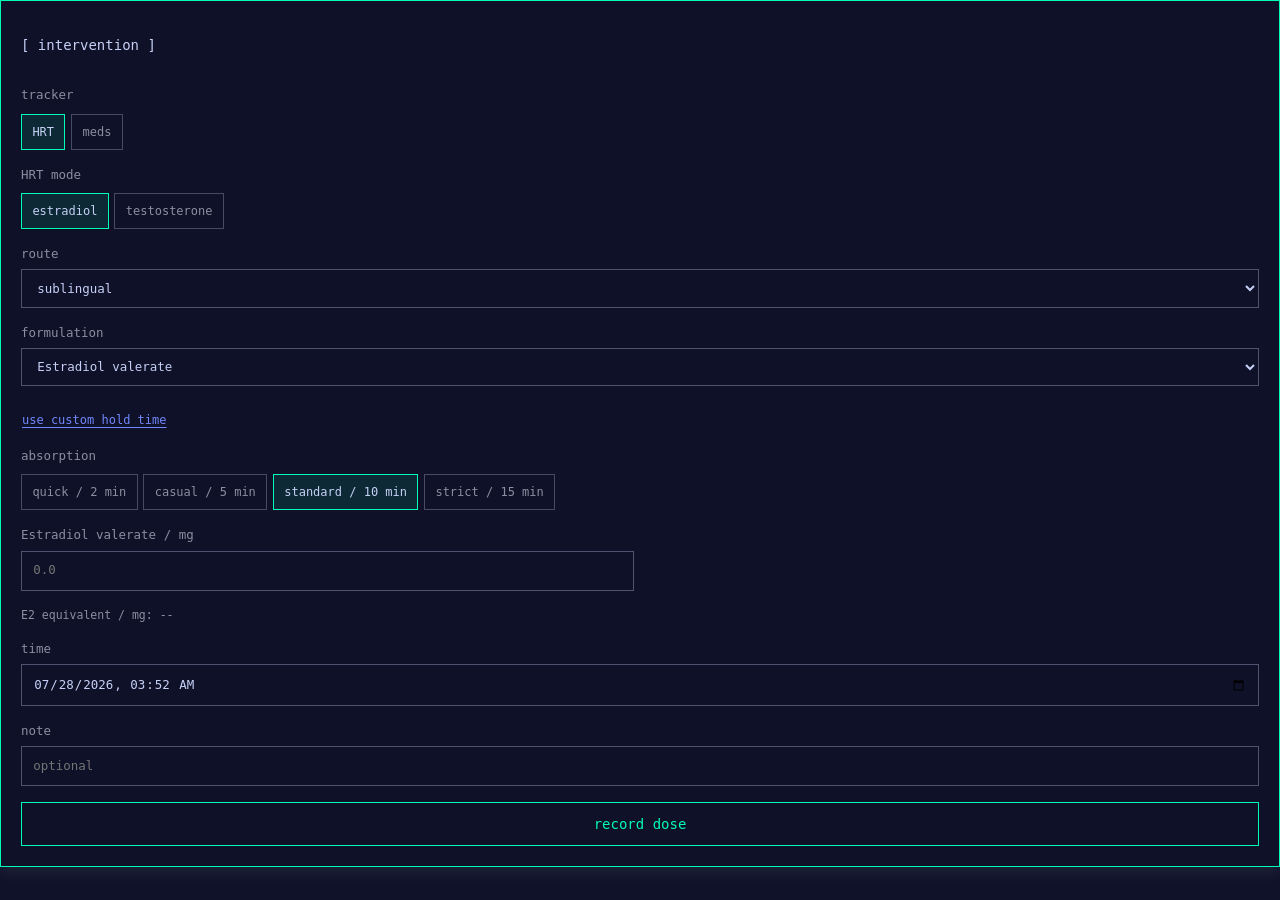
Test case: HrtDoseForm route-dependent interactions › cascades transmasc mode to injection and testosterone esters
Click the button "testosterone". click: (169, 211)
box: [114,193,224,229]
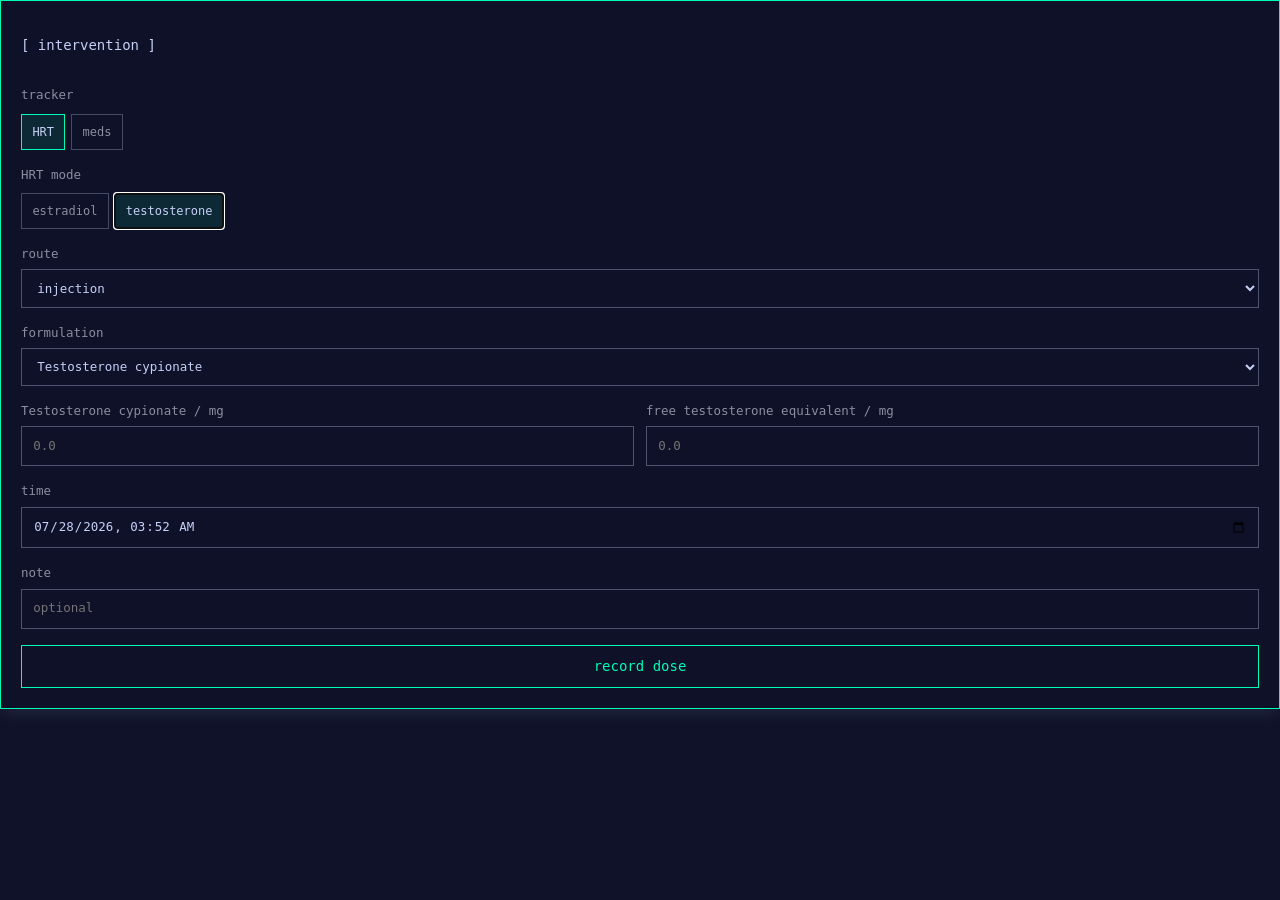
Now the dropdown labelled "route" shows "injection", box [21,269,1259,308]
Now the dropdown labelled "formulation" shows "Testosterone cypionate", box [21,348,1259,386]
